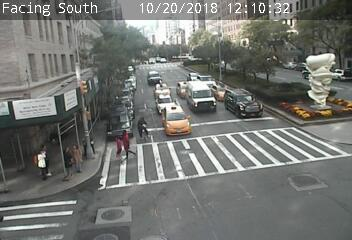car: (225, 88, 264, 117), (187, 81, 215, 113), (163, 104, 191, 135), (154, 81, 172, 97), (156, 95, 172, 111)
